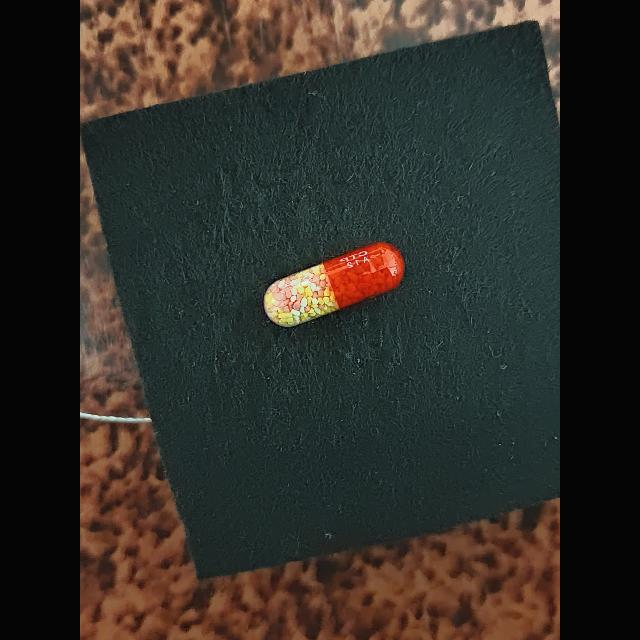Intact Capsule: (264, 242, 405, 327)
